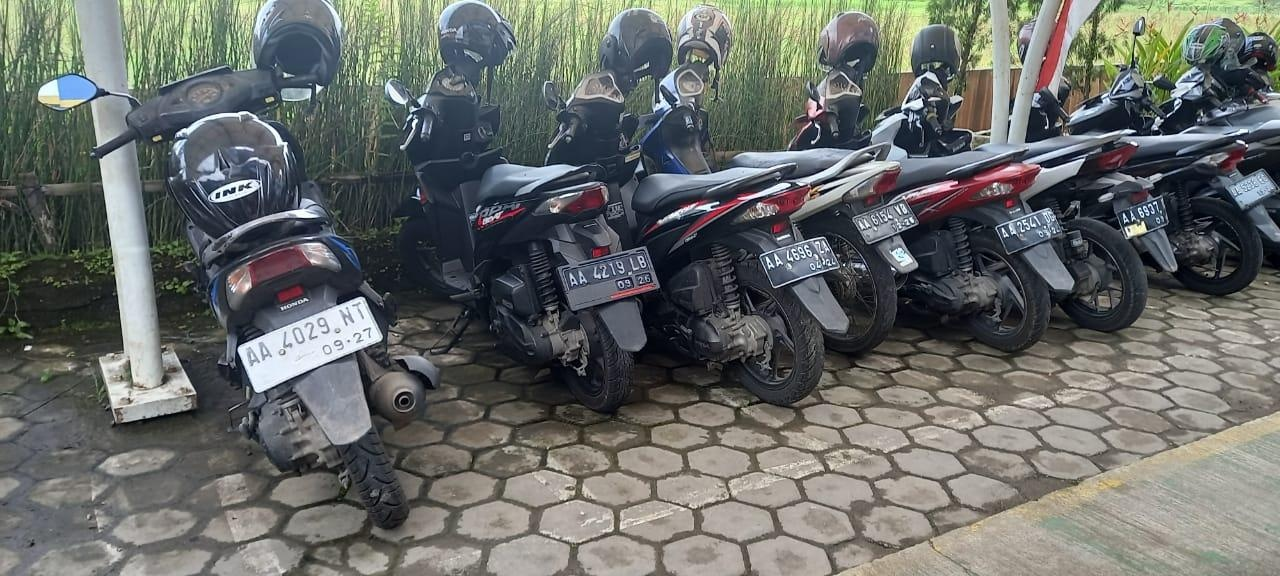plate: (240, 295, 383, 395), (558, 248, 660, 312), (758, 235, 845, 292), (995, 203, 1072, 260), (848, 200, 927, 245), (1120, 193, 1177, 243), (1232, 173, 1280, 210)
